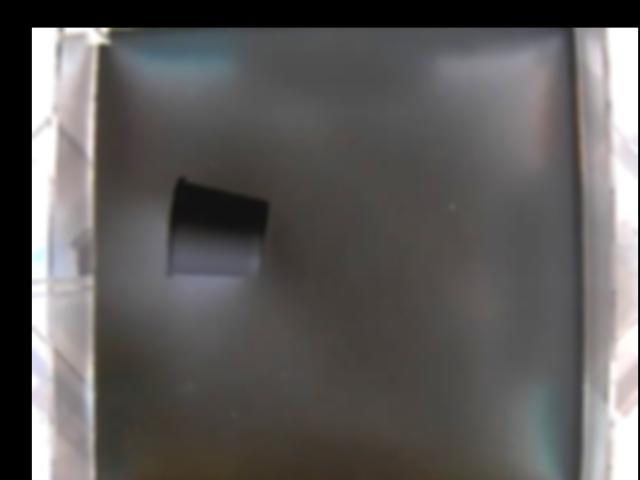Cup: (164, 174, 270, 281)
